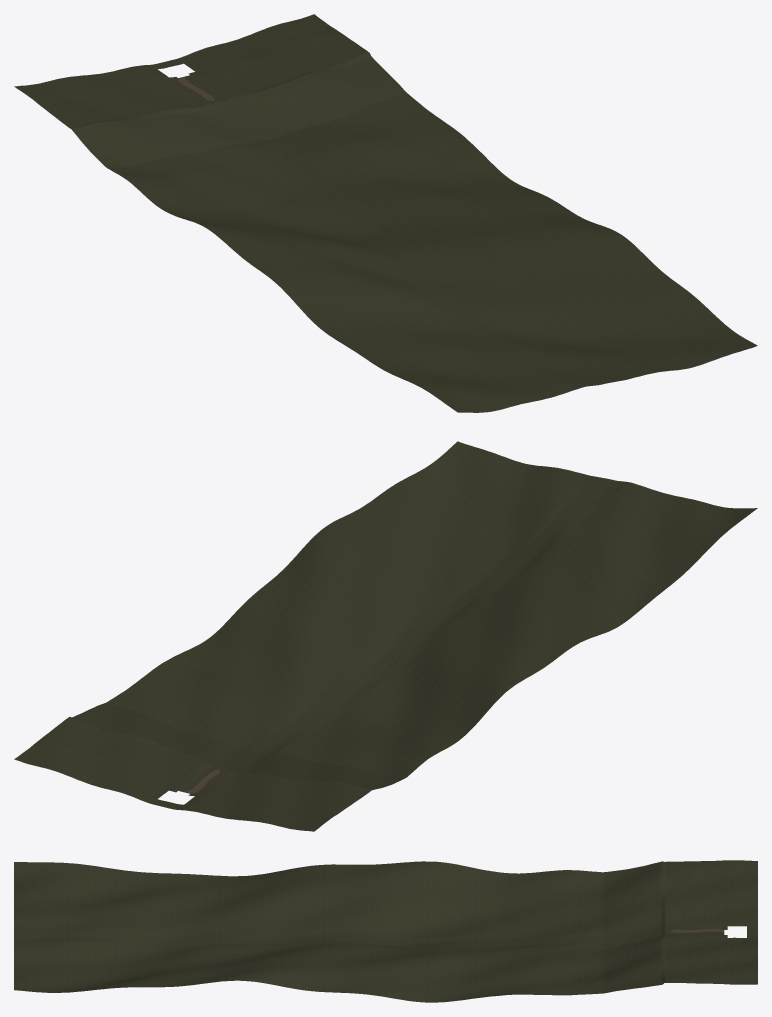
Rendered from FOREST_Terrain.fbx.
3 views of the same model, one above another, from view 1: azimuth 30°, elevation 25°; view 2: azimuth 150°, elevation 25°; view 3: azimuth 270°, elevation 25° (orthographic). The views are drawn at different scales.
Parts seen in each view (by area): view 1: FOREST_Terrain; view 2: FOREST_Terrain; view 3: FOREST_Terrain.
Part boxes in pixels (x1,y1,x2,y2): FOREST_Terrain: (14, 14, 757, 412); FOREST_Terrain: (14, 441, 757, 831); FOREST_Terrain: (14, 860, 757, 1002).
Size of the model in its own units: 84 by 8.85 by 215.
